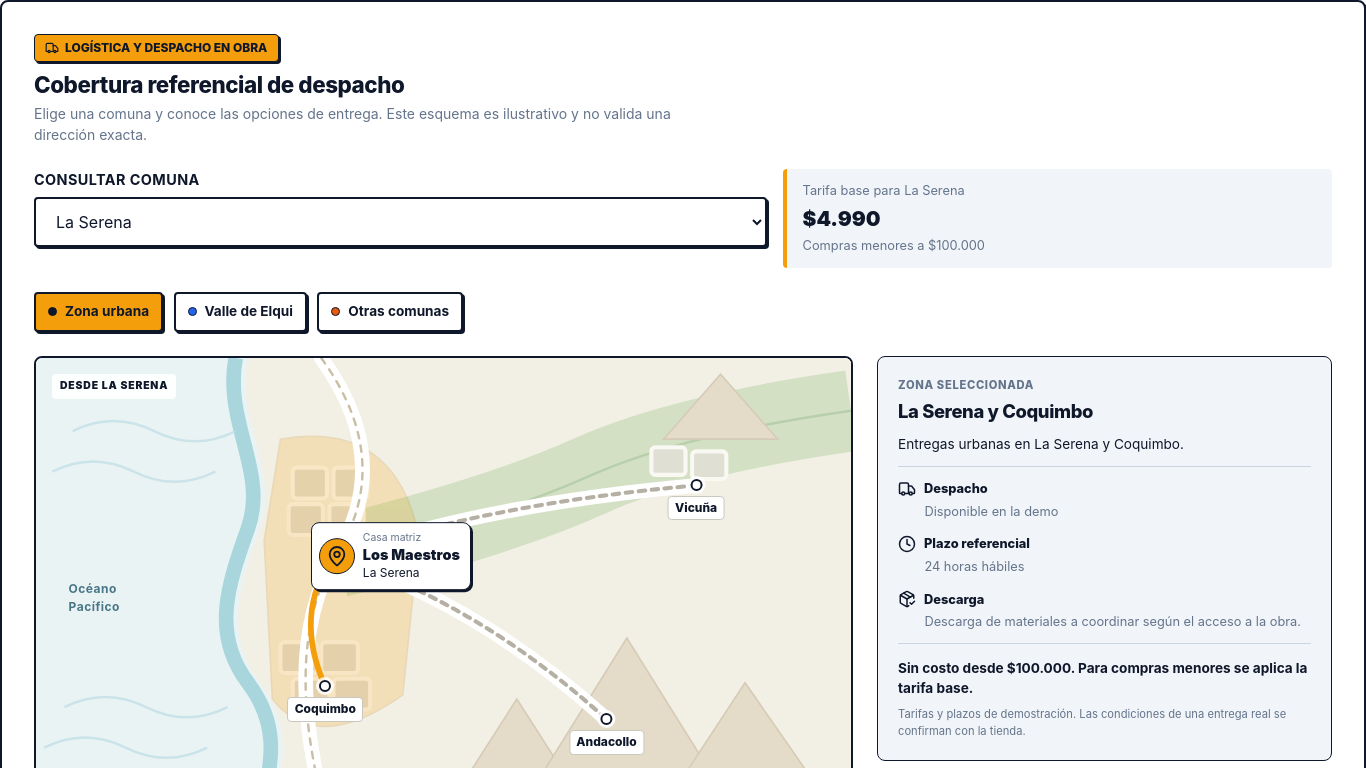
Test: Coherencia de cobertura y tarifas › permite elegir una comuna desde el esquema y actualizar la tarifa urbana
Click the button "Valle de Elqui" at (240, 312), box [174,292,307,332]
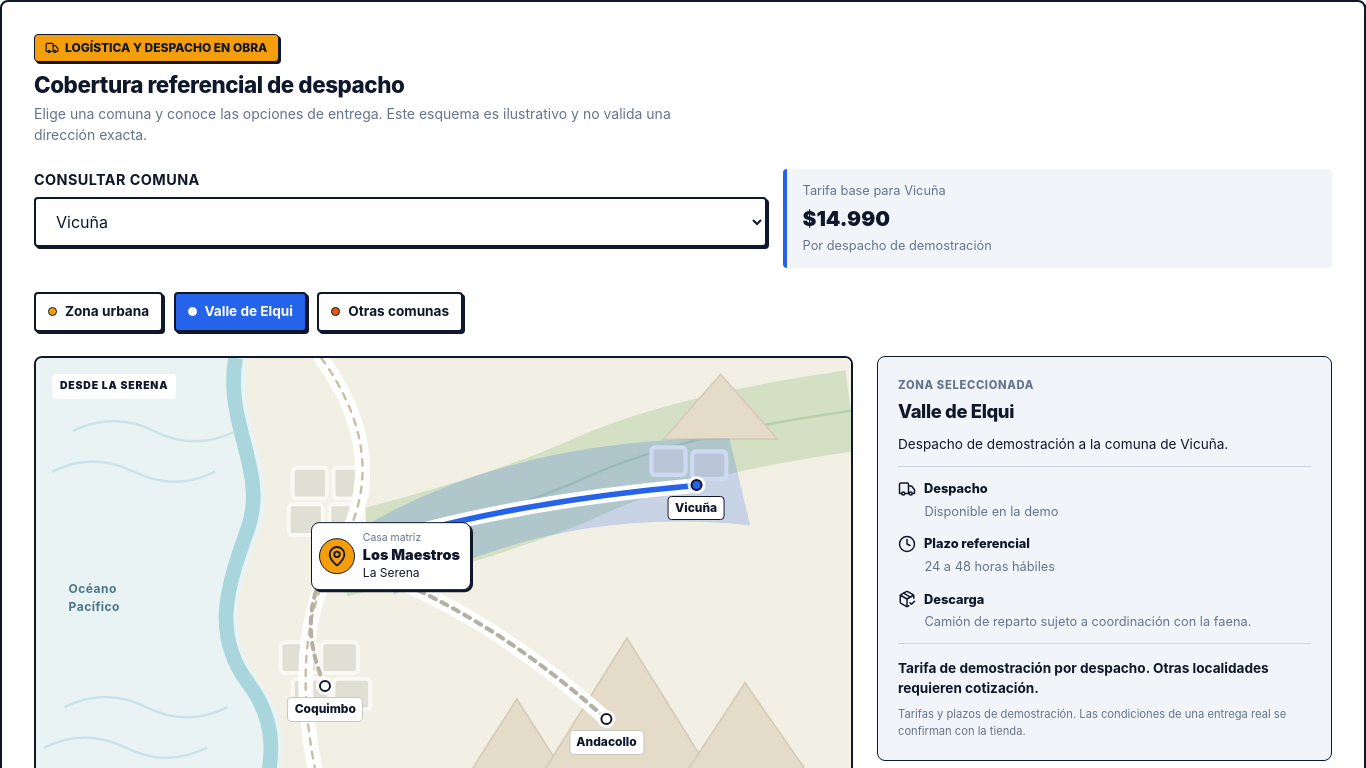
Click the button with aria-label "Consultar despacho a Coquimbo" at (325, 702), box [287,680,363,724]
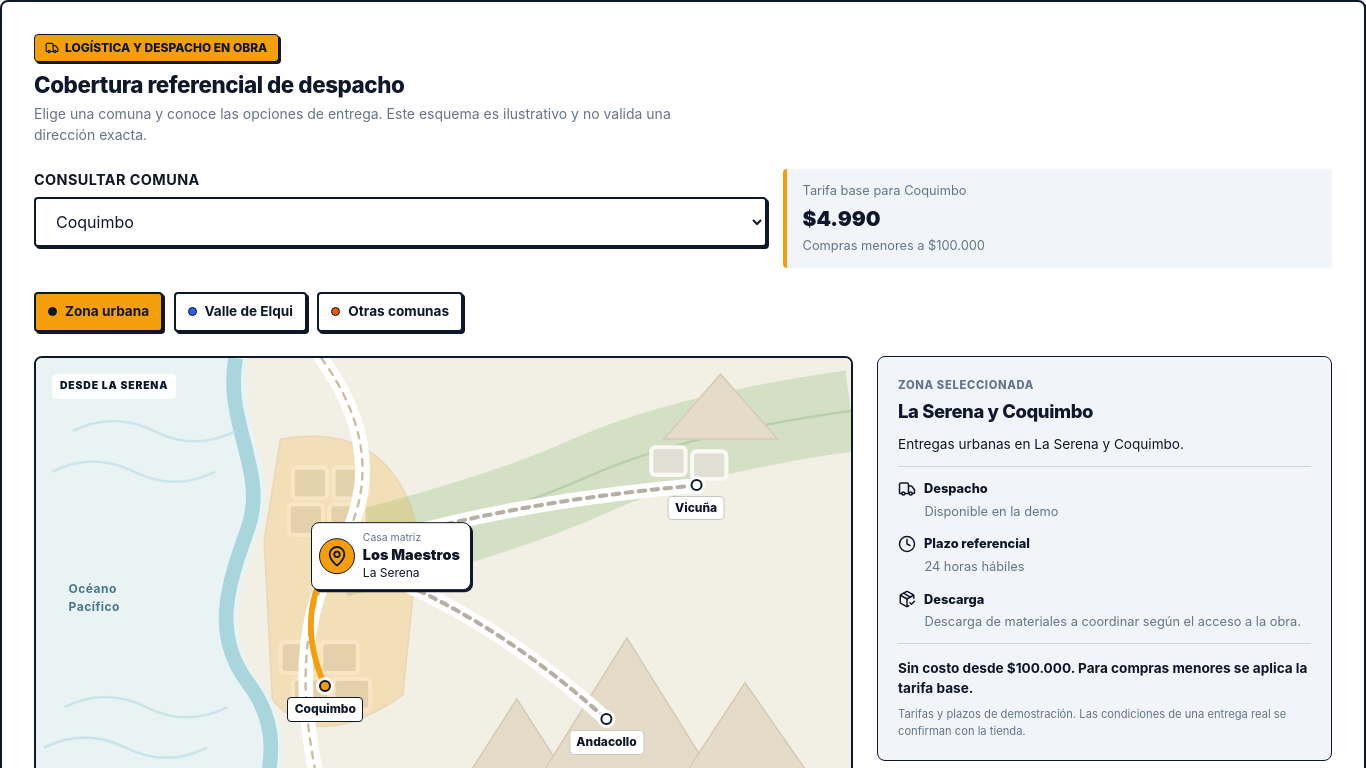
Check: the dropdown labelled "Consultar comuna" shows "Coquimbo", box [34,197,767,247]
Check: the message shows "$4.990", box [803,206,881,231]
